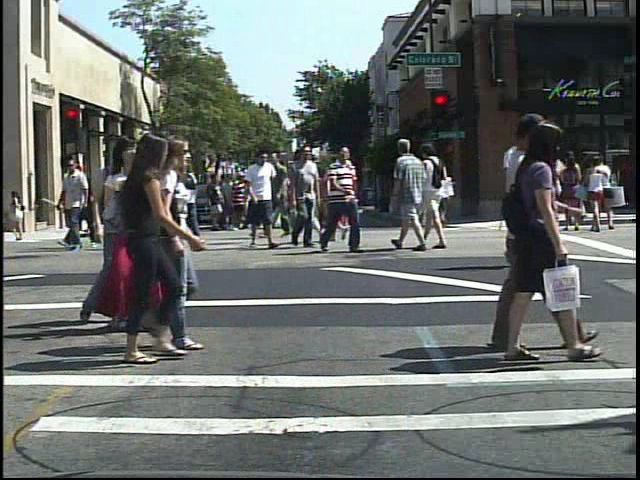person: (475, 107, 600, 357), (486, 114, 602, 363), (155, 135, 231, 353), (100, 131, 180, 337), (111, 129, 173, 370), (91, 131, 138, 336), (489, 125, 547, 269), (318, 142, 367, 256), (392, 134, 428, 256), (293, 141, 333, 250), (284, 142, 322, 251), (245, 145, 280, 256), (426, 136, 457, 249), (329, 147, 362, 248), (132, 157, 167, 244), (227, 167, 248, 236), (546, 155, 560, 232), (63, 183, 83, 233), (187, 153, 188, 254)
